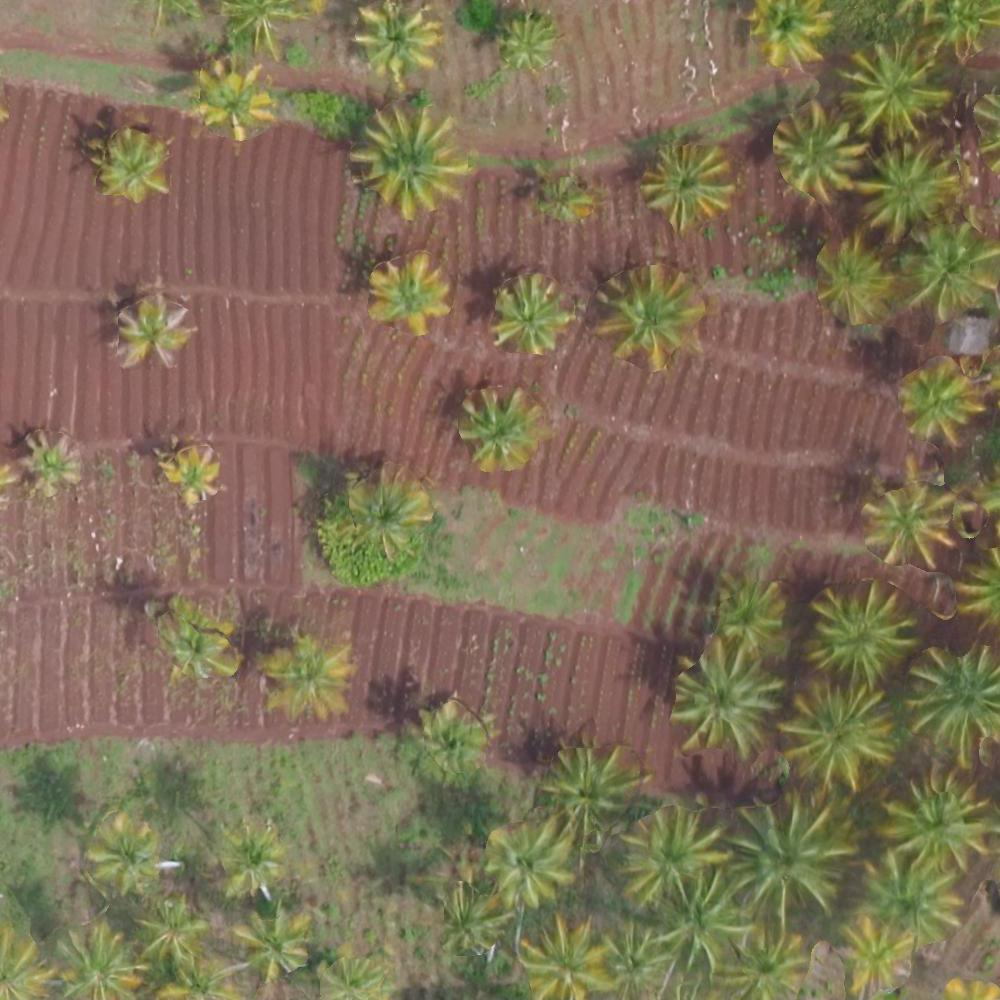not palm: (4, 294, 74, 369), (724, 361, 801, 427), (2, 211, 72, 280), (241, 343, 313, 408), (645, 402, 716, 466), (236, 256, 307, 319), (530, 518, 601, 581), (727, 446, 800, 507), (564, 599, 632, 664), (16, 540, 82, 606), (9, 672, 78, 734), (215, 181, 284, 242), (488, 602, 552, 667), (324, 371, 389, 434), (5, 5, 67, 66), (34, 614, 98, 673), (280, 748, 342, 808), (593, 15, 654, 69)
